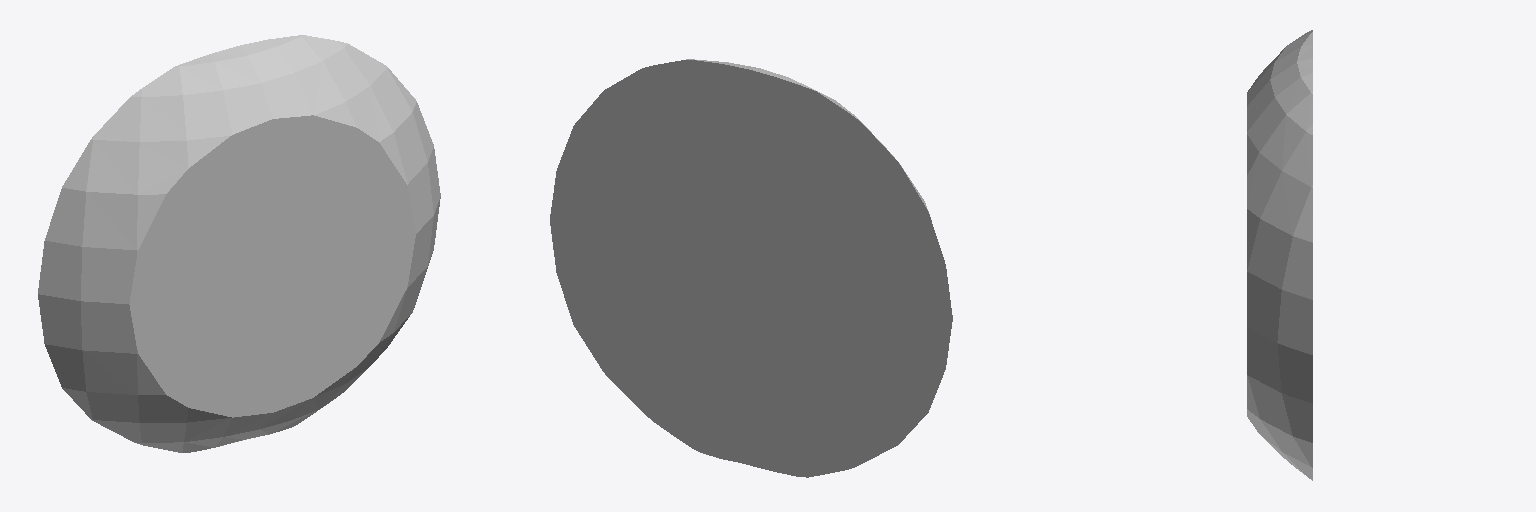
Rendered from apple_slice_08.obj.
3 views of the same model, side by side, from view 1: azimuth 30°, elevation 25°; view 2: azimuth 150°, elevation 25°; view 3: azimuth 270°, elevation 25° (orthographic).
Visible parts, largest first — view 1: Apple.Slices.001_Sphere.002; view 2: Apple.Slices.001_Sphere.002; view 3: Apple.Slices.001_Sphere.002.
Part boxes in pixels (x1,y1,x2,y2): Apple.Slices.001_Sphere.002: (38,35,440,452); Apple.Slices.001_Sphere.002: (550,59,952,477); Apple.Slices.001_Sphere.002: (1247,30,1312,480).
Size of the model in its own units: 1.54 by 1.45 by 0.2212.